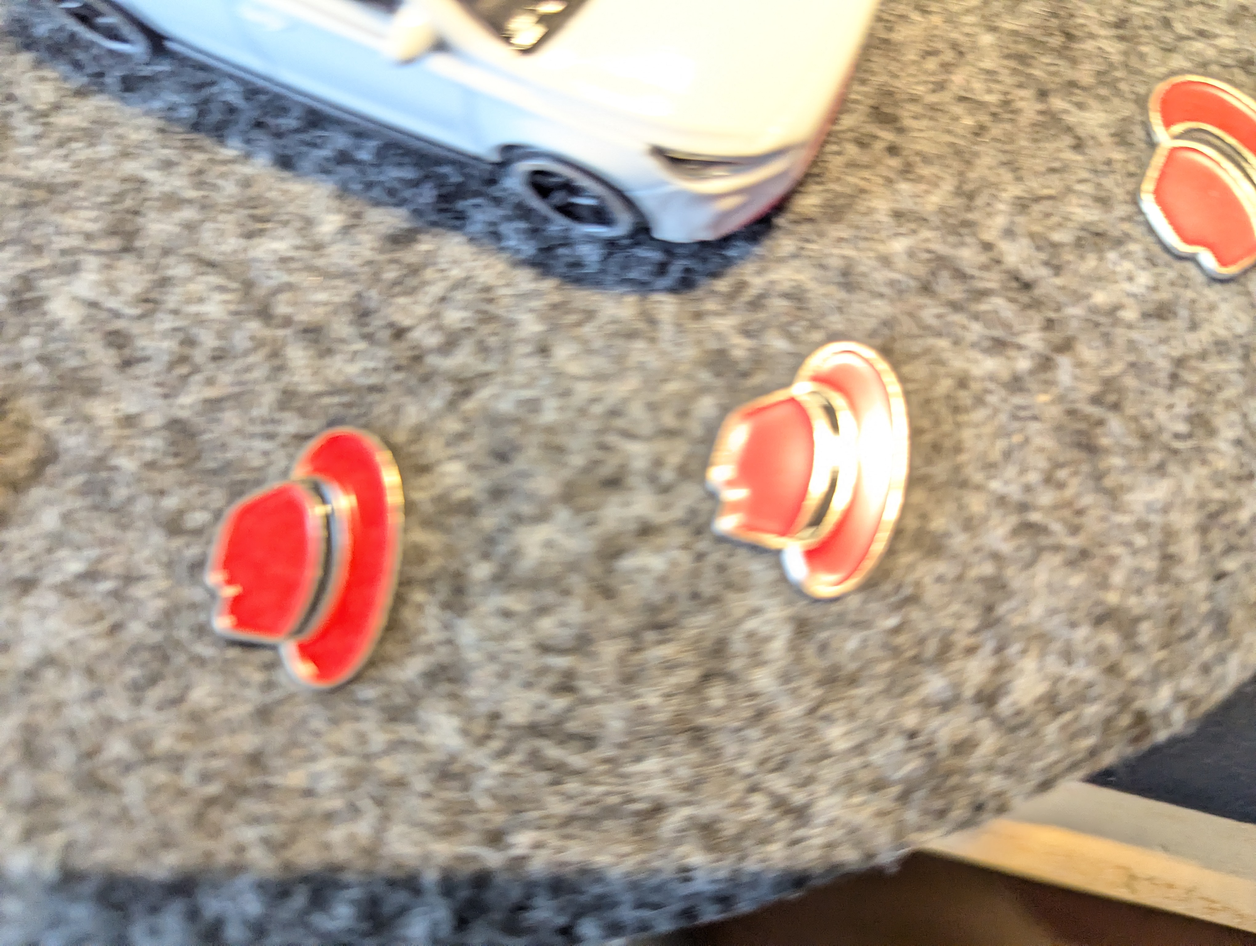Red-Hat: (687, 310, 951, 631), (193, 416, 446, 706), (1120, 37, 1256, 328)
